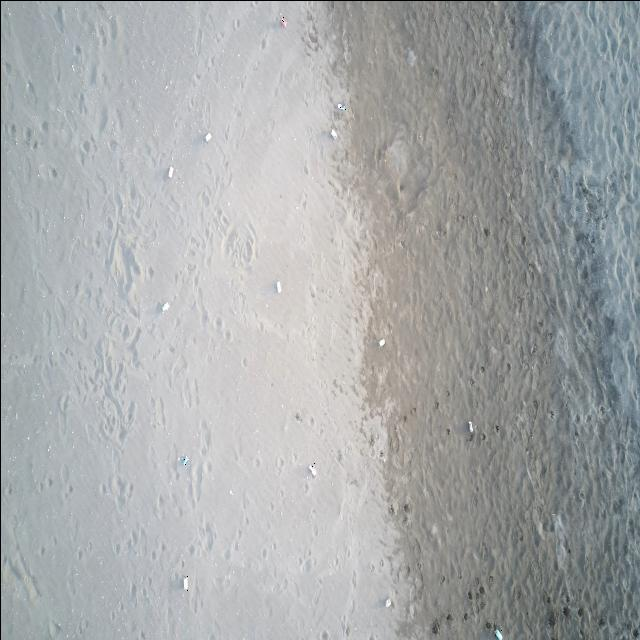Garbage: (308, 463, 316, 476), (203, 131, 211, 141), (495, 628, 502, 639), (161, 301, 168, 312), (280, 16, 287, 27), (384, 597, 391, 607), (377, 337, 384, 347), (336, 103, 346, 110), (329, 128, 335, 139), (180, 455, 187, 464), (467, 420, 472, 432), (183, 575, 187, 590), (168, 166, 172, 178), (276, 280, 280, 292)
